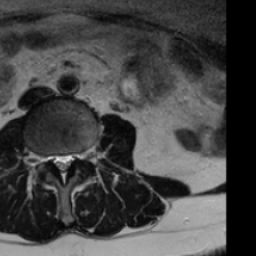CCS_normal: (58, 145, 66, 190)
LFS_stenosis: (76, 145, 84, 169)
LLS_stenosis: (66, 145, 76, 173)
RFS_stenosis: (41, 145, 49, 173)
RLS_stenosis: (49, 146, 58, 171)
